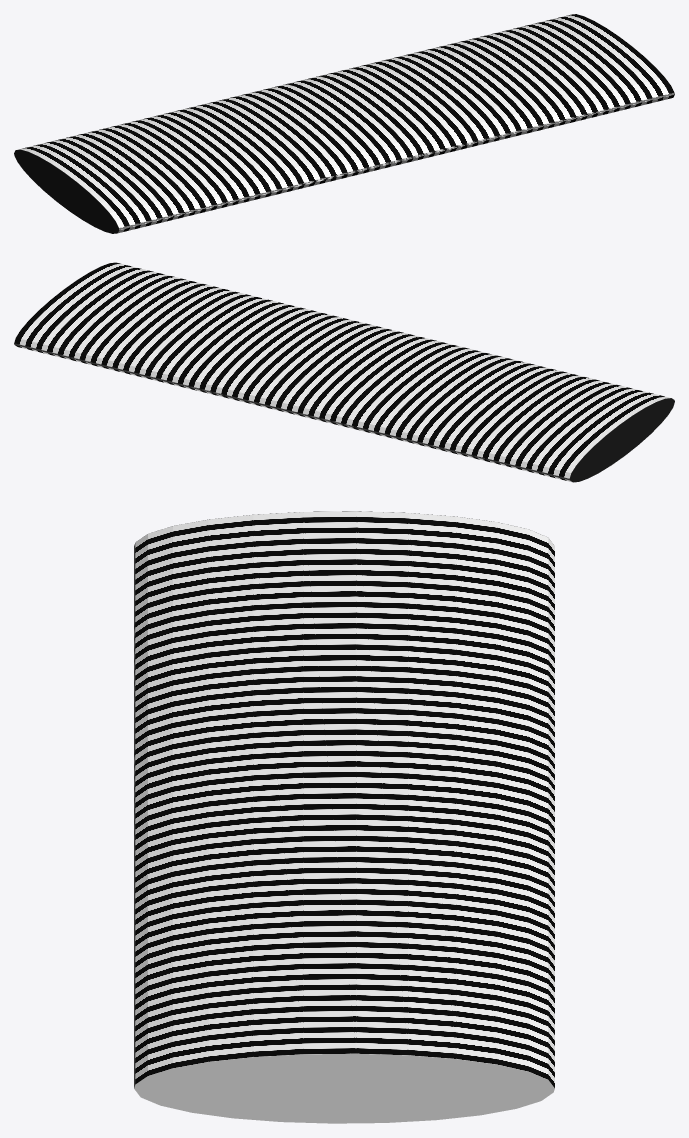
File: TOfbx.fbx
3 renders of one model, top to bottom at view 1: azimuth 30°, elevation 25°; view 2: azimuth 150°, elevation 25°; view 3: azimuth 270°, elevation 25°, orthographic. The views are drawn at different scales.
Parts seen in each view (by area): view 1: Плоскость; view 2: Плоскость; view 3: Плоскость.
Boxes of the visible parts, left/top/right/bottom form: Плоскость: left=14, top=14, right=674, bottom=233; Плоскость: left=14, top=262, right=674, bottom=482; Плоскость: left=134, top=511, right=554, bottom=1123.
Bounding box in the file's own units: 4678 × 281 × 1534.
1 material, 1 textured.
